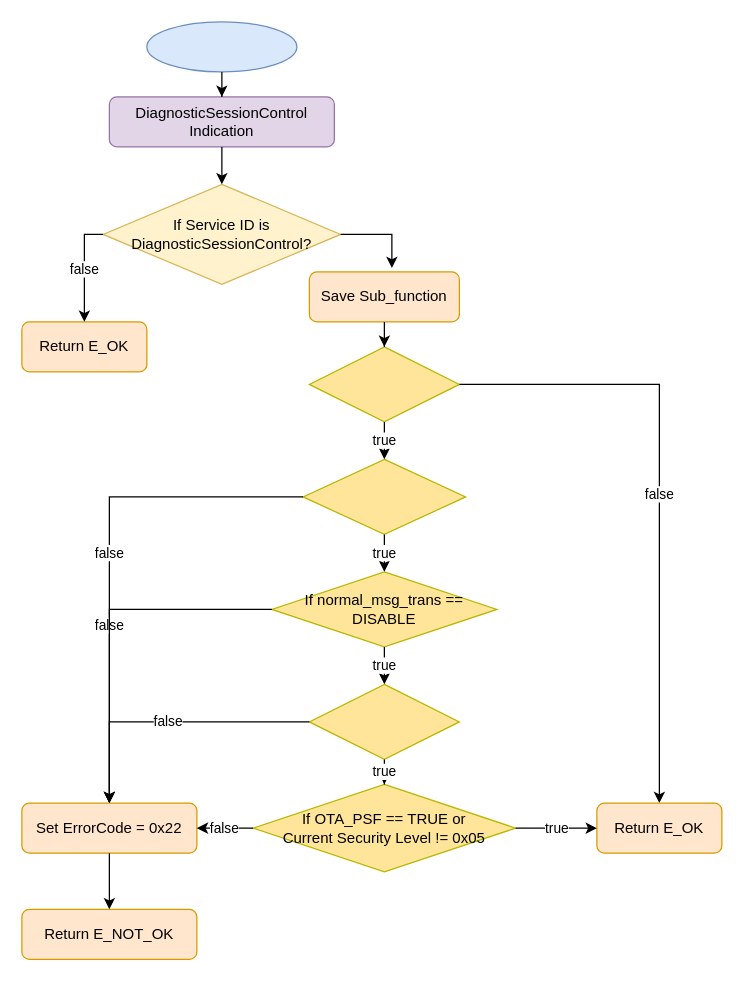
Image size: 744x981. Some labels were removed from this diagram. The shapes that lost their labels are listed below. From the top down, each one's centre as x and y in pixels, then its label:
At point (221, 46): "Event Triggered".
At point (383, 384): "If Sub_function is 02".
At point (384, 496): "If DTC_Setting_Enabled == OFF".
At point (383, 721): "If Off_power_mode == TRUE".
